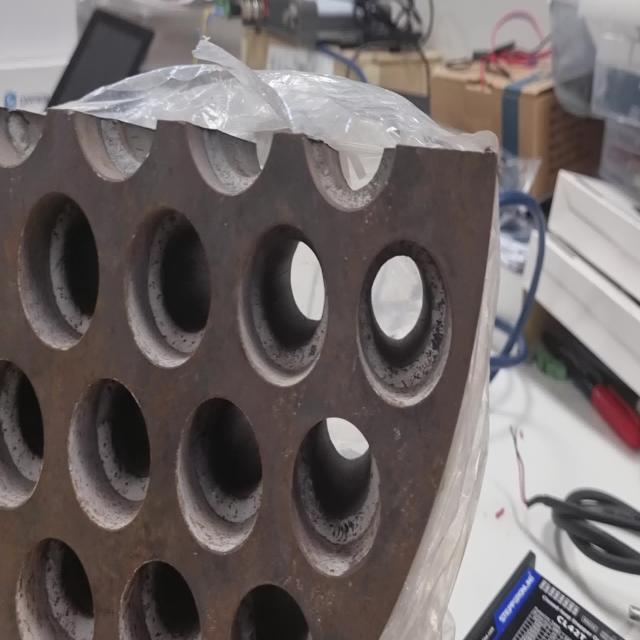Hole: (356, 235, 454, 408), (236, 221, 328, 387), (291, 416, 381, 578), (124, 206, 212, 369), (176, 395, 264, 554), (16, 192, 100, 351), (67, 376, 150, 530), (14, 536, 94, 640), (118, 556, 202, 640), (0, 356, 45, 512), (229, 581, 315, 639)
